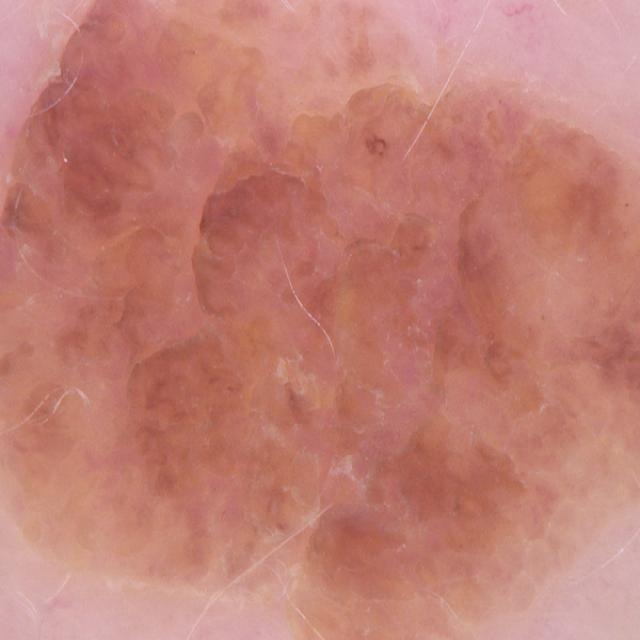Skin-Cancer Pigmented benign keratosis: (6, 1, 618, 640)
